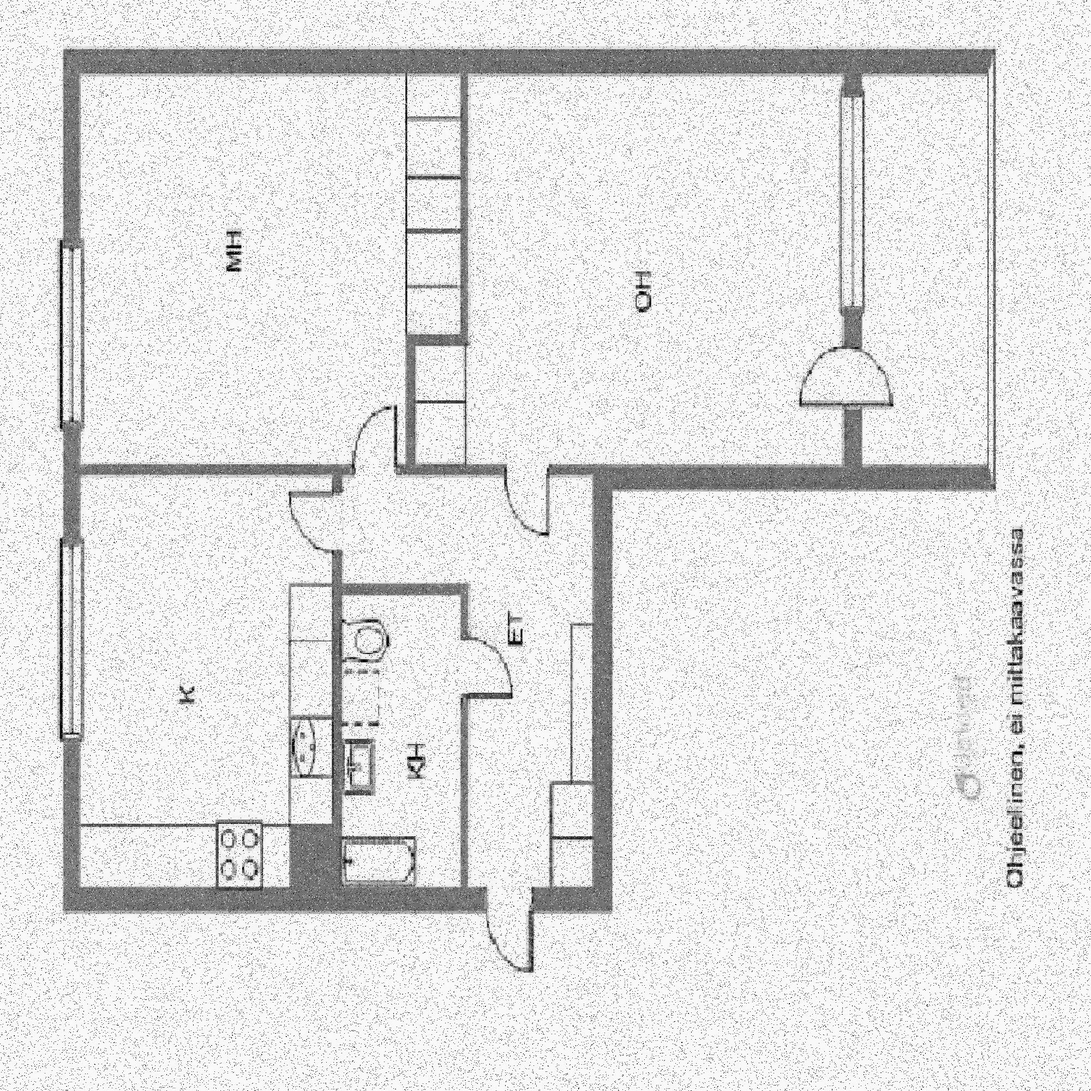wall: (63, 48, 861, 71), (63, 49, 79, 913), (63, 888, 610, 913), (593, 464, 611, 913), (844, 49, 862, 488), (593, 464, 862, 488), (63, 464, 611, 475), (331, 464, 340, 913), (862, 463, 993, 488), (862, 49, 993, 74), (461, 584, 469, 913), (460, 49, 467, 344), (332, 584, 469, 595), (406, 334, 415, 475), (406, 334, 467, 345)
